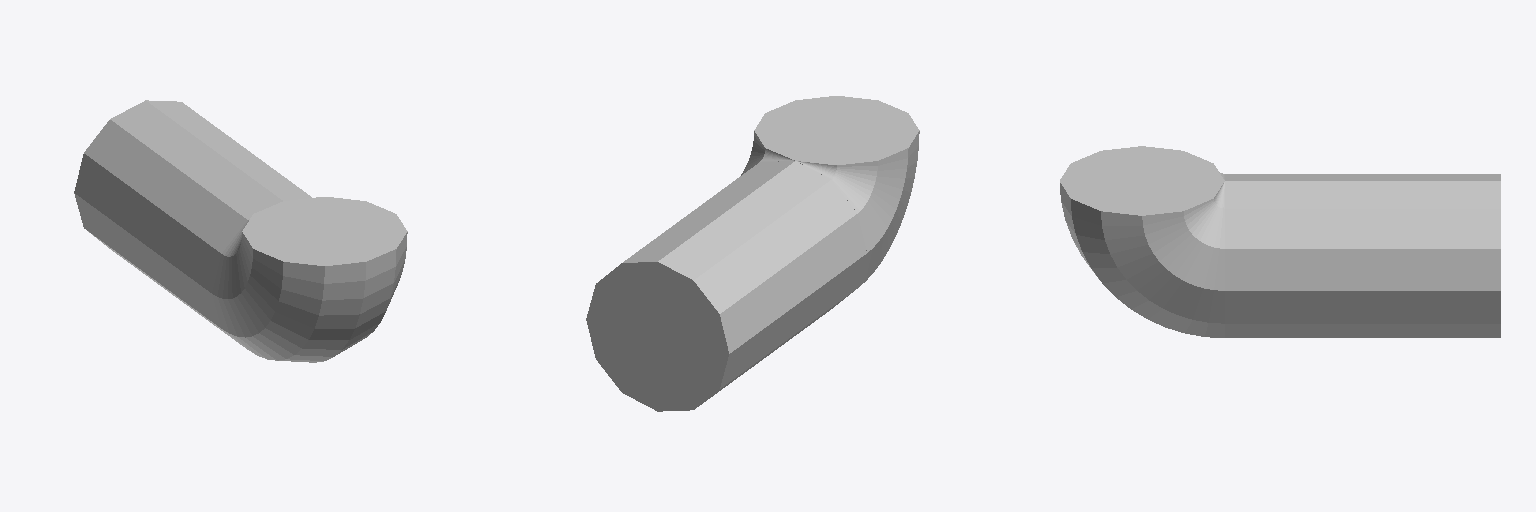
The model's file is arm_link2.obj.
3 views of the same model, side by side, from view 1: azimuth 30°, elevation 25°; view 2: azimuth 150°, elevation 25°; view 3: azimuth 270°, elevation 25° (orthographic).
Parts seen in each view (by area): view 1: arm_link2_Cylinder.074; view 2: arm_link2_Cylinder.074; view 3: arm_link2_Cylinder.074.
Part boxes in pixels (left/top/right/bottom): arm_link2_Cylinder.074: left=74, top=100, right=407, bottom=362; arm_link2_Cylinder.074: left=586, top=96, right=919, bottom=411; arm_link2_Cylinder.074: left=1060, top=146, right=1500, bottom=337.
Bounding box in the file's own units: 0.06 × 0.06 × 0.16.